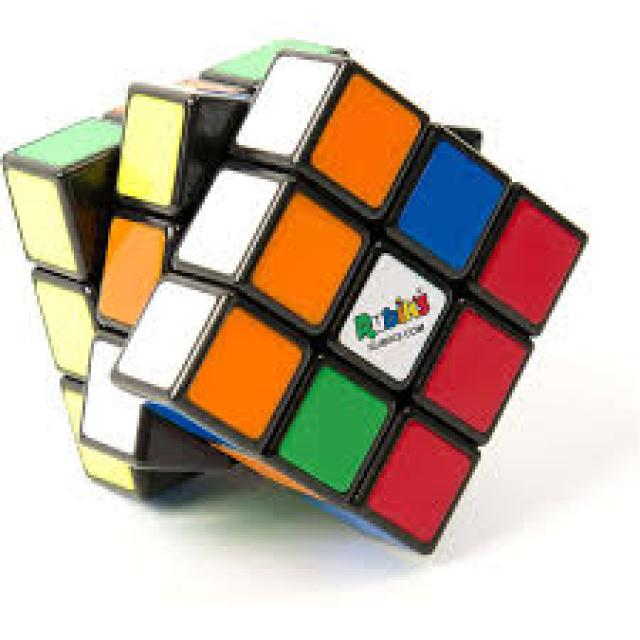Cube-3x3: (12, 55, 528, 545)
